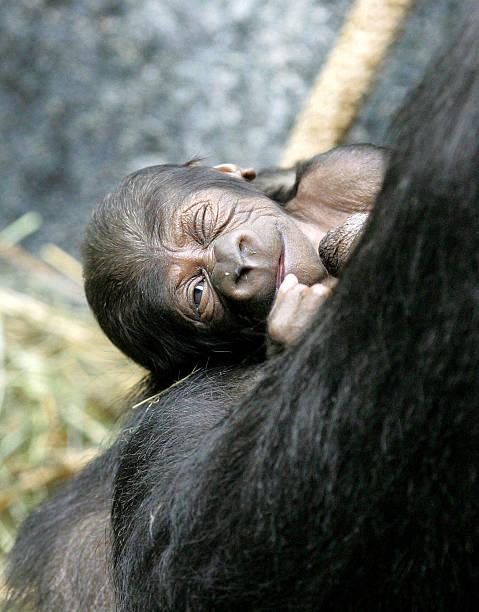gorille_Autres: (63, 75, 418, 448)
